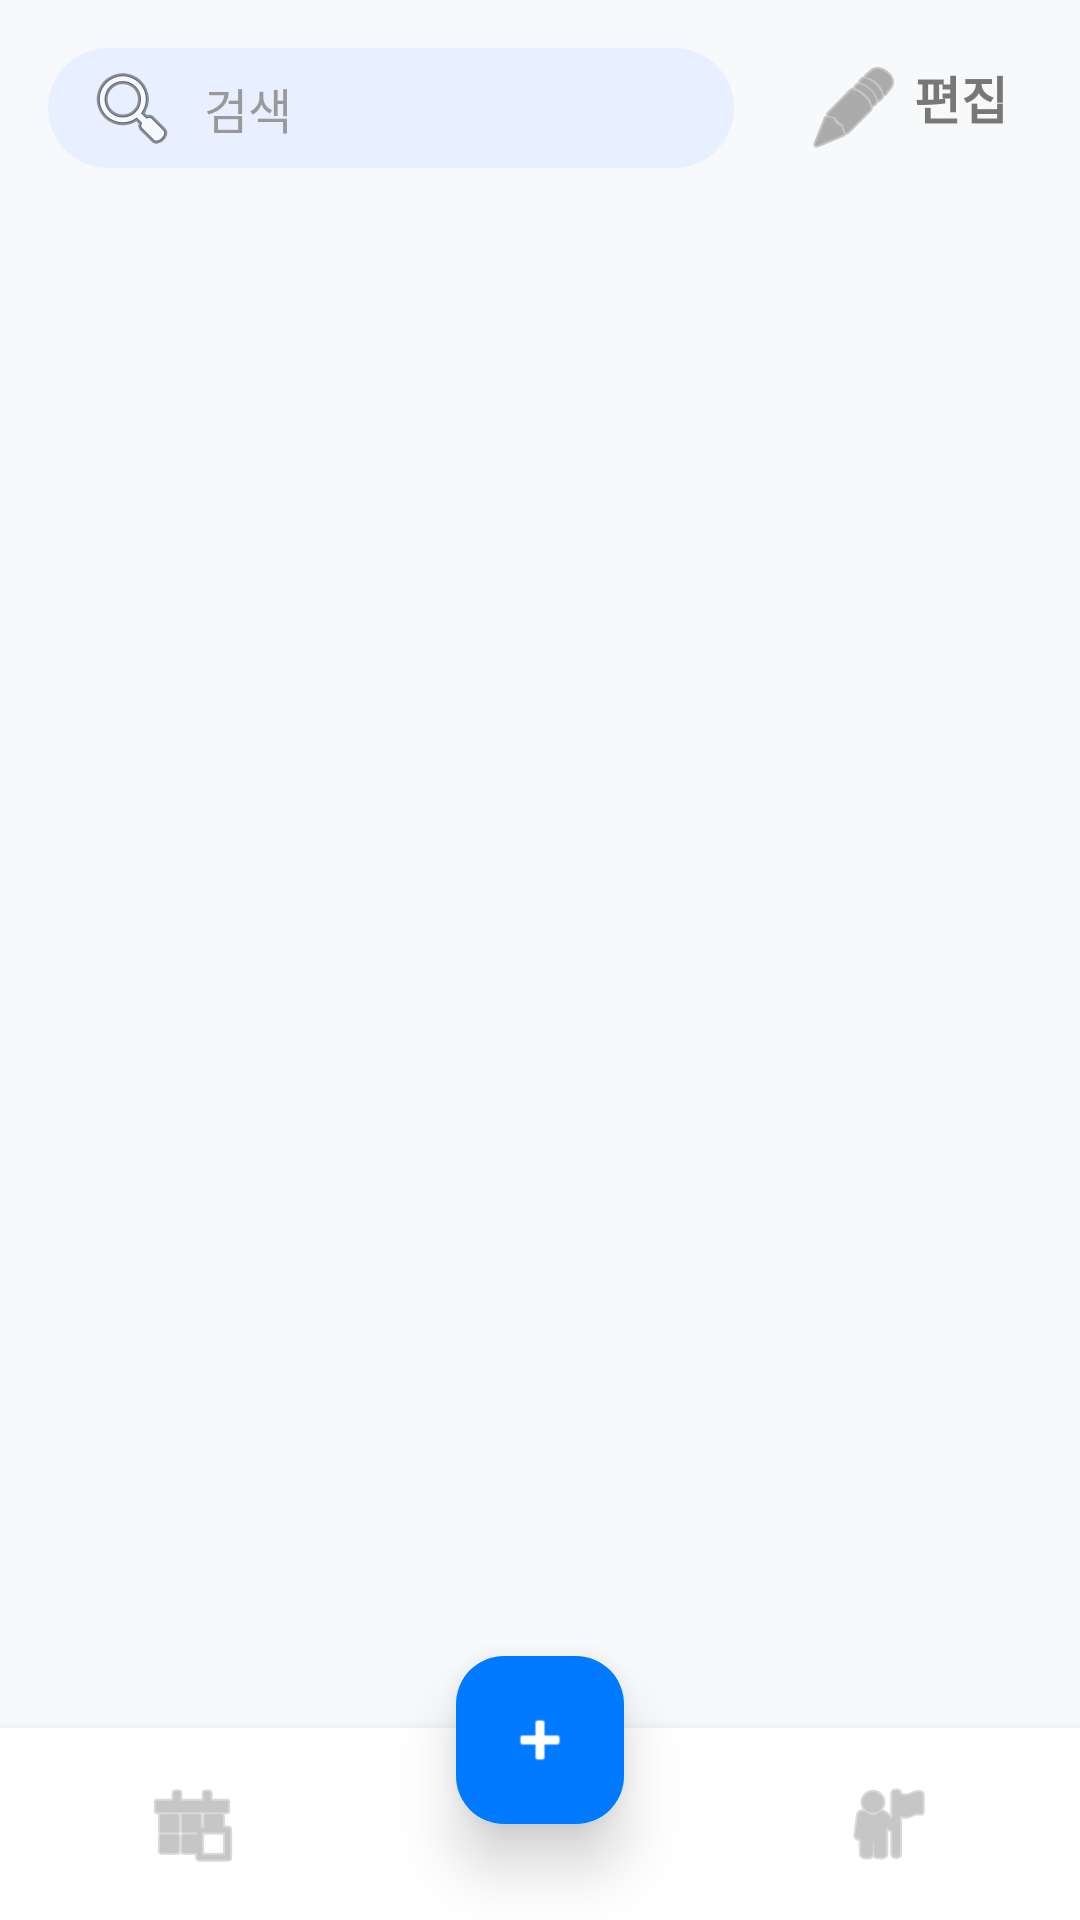

Where to tap for icons on this 1080 × 1920 app screen, as point (x, y):
add: point (540, 1740)
myplaces: point (889, 1824)
today: point (193, 1825)
